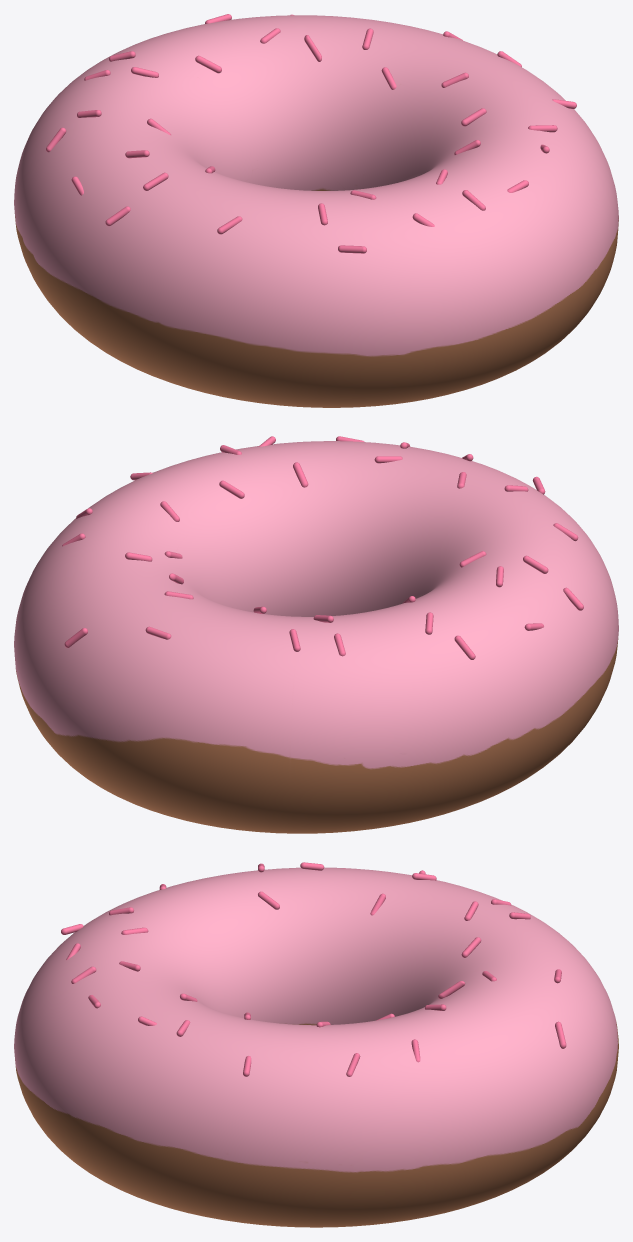
Rendered from donitsi.glb.
3 views of the same model, one above another, from view 1: azimuth 30°, elevation 25°; view 2: azimuth 150°, elevation 25°; view 3: azimuth 270°, elevation 25° (orthographic). The views are drawn at different scales.
Visible parts, largest first — view 1: mesh_id27; view 2: mesh_id27; view 3: mesh_id27.
Boxes of the visible parts, x1,y1,x2,y2 form: mesh_id27: (14, 15, 618, 407); mesh_id27: (14, 441, 618, 833); mesh_id27: (14, 867, 618, 1227).
Size of the model in its own units: 0.3855 by 0.1493 by 0.4168.
2 materials, 2 textured.
